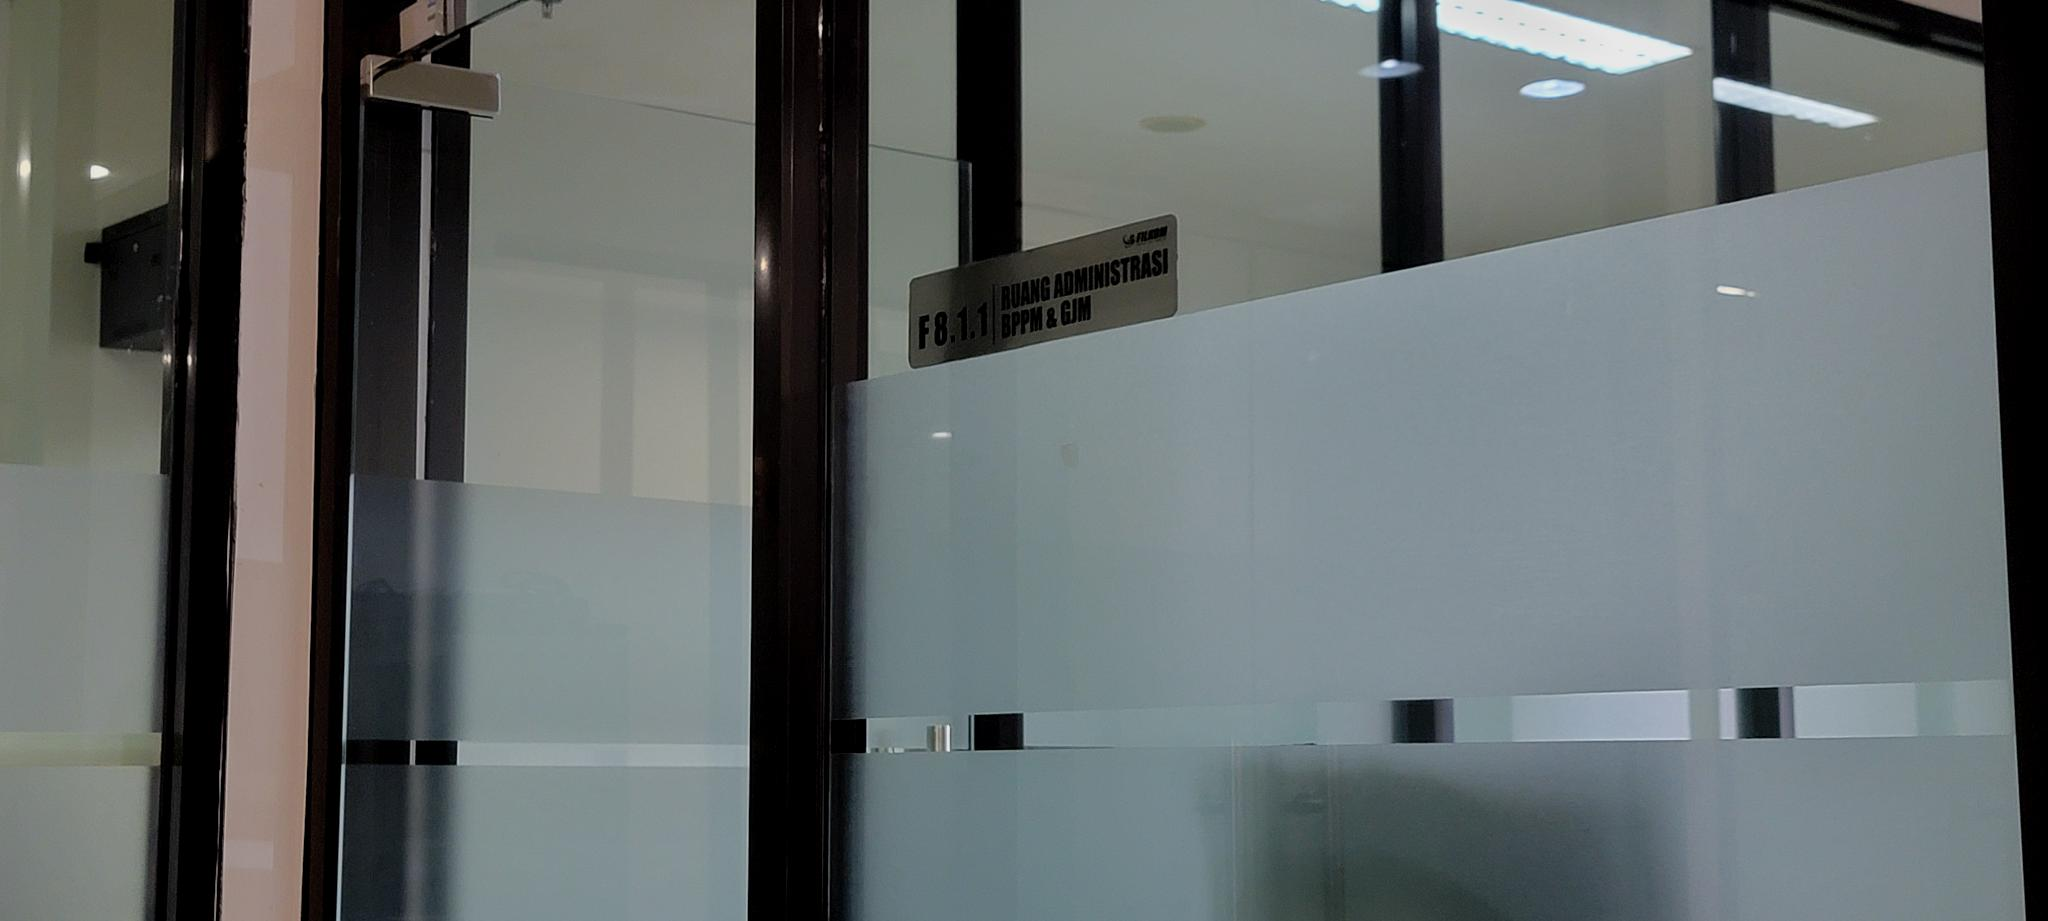plate: (905, 214, 1178, 371)
